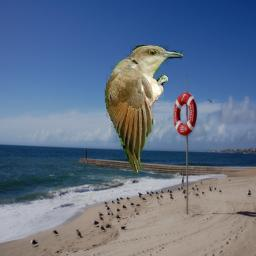Cuckoo: (104, 45, 183, 175)
